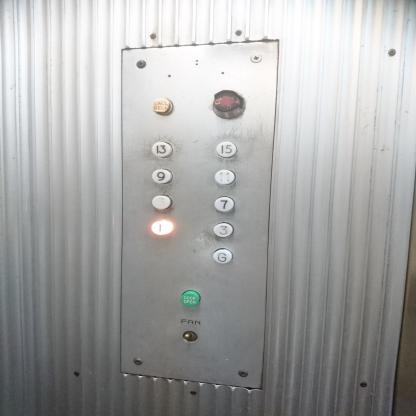1: (149, 218, 175, 237)
11: (212, 167, 237, 186)
13: (149, 140, 175, 159)
15: (213, 140, 238, 159)
3: (211, 220, 236, 240)
5: (149, 192, 175, 212)
7: (212, 194, 238, 213)
9: (150, 166, 173, 186)
G: (210, 246, 235, 266)
switch: (180, 328, 199, 344)
text: (177, 288, 203, 308)
text_blur: (209, 88, 247, 120)
text_call bell: (149, 95, 176, 116)
